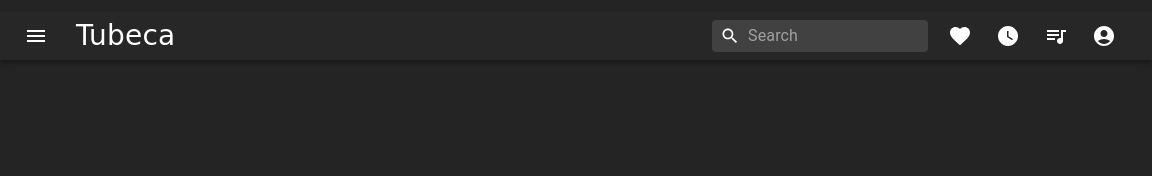
Scenario: Header › account menu › opens account menu when account button is clicked
Click the button named "account".
click(1104, 36)  # box [1080,12,1128,60]
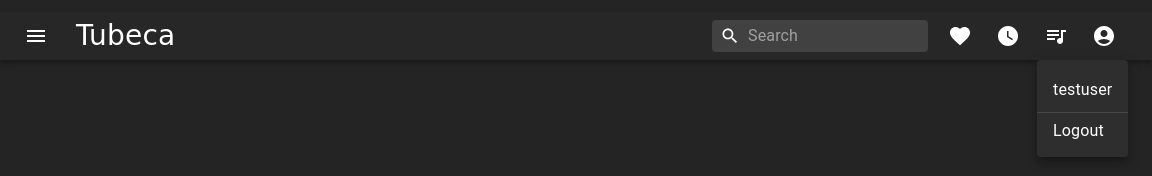
expect the menu item "Logout" is shown: met, box [1053,121,1104,140]
